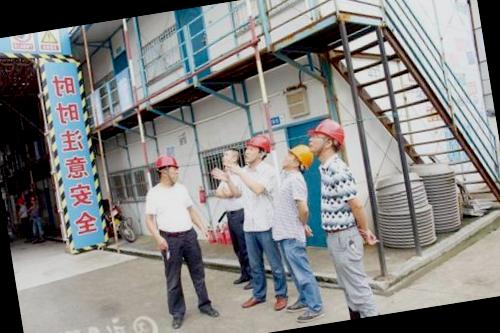no_helmet: (216, 144, 243, 170)
